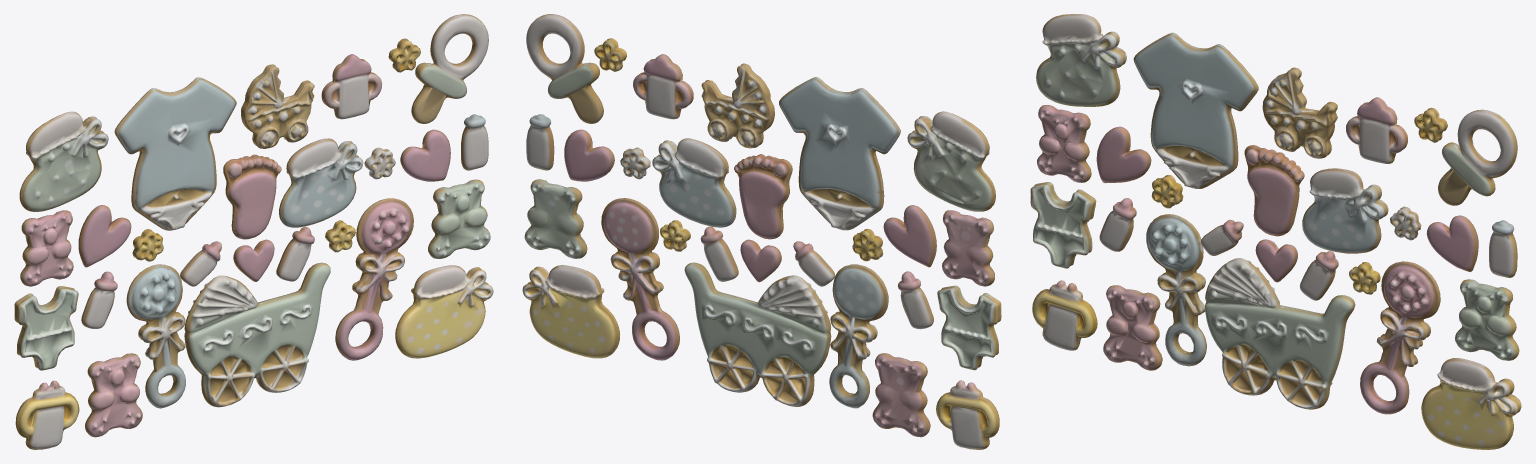
The model's file is cookies-512-separated.glb.
3 renders of one model, left to right at view 1: azimuth 30°, elevation 25°; view 2: azimuth 150°, elevation 25°; view 3: azimuth 330°, elevation 25°, orthographic. The views are drawn at different scales.
Visible parts, largest first — view 1: Cookie_12, Cookie_08, Cookie_23, Cookie_03, Cookie_20, Cookie_09, Cookie_17, Cookie_25, Cookie_15, Cookie_02, Cookie_07, Cookie_13 (+15 smaller); view 2: Cookie_12, Cookie_08, Cookie_23, Cookie_03, Cookie_20, Cookie_09, Cookie_17, Cookie_25, Cookie_15, Cookie_02, Cookie_07, Cookie_13 (+15 smaller); view 3: Cookie_12, Cookie_08, Cookie_23, Cookie_03, Cookie_20, Cookie_09, Cookie_17, Cookie_25, Cookie_15, Cookie_02, Cookie_13, Cookie_07 (+15 smaller).
Boxes of the visible parts, box(x1,y1,x2,y2) form: Cookie_12: box(184, 262, 330, 407); Cookie_08: box(114, 77, 236, 230); Cookie_23: box(395, 265, 493, 358); Cookie_03: box(19, 111, 108, 211); Cookie_20: box(335, 198, 413, 360); Cookie_09: box(126, 264, 185, 408); Cookie_17: box(279, 138, 363, 227); Cookie_25: box(411, 14, 488, 123); Cookie_15: box(241, 64, 314, 148); Cookie_02: box(14, 286, 78, 370); Cookie_07: box(85, 353, 142, 437); Cookie_13: box(223, 154, 281, 239); Cookie_12: box(684, 262, 831, 406); Cookie_08: box(779, 77, 900, 230); Cookie_23: box(522, 265, 620, 358); Cookie_03: box(907, 111, 995, 211); Cookie_20: box(601, 198, 679, 360); Cookie_09: box(829, 264, 888, 408); Cookie_17: box(652, 138, 736, 227); Cookie_25: box(526, 14, 603, 123); Cookie_15: box(701, 63, 774, 148); Cookie_02: box(937, 285, 1001, 370); Cookie_07: box(872, 353, 930, 437); Cookie_13: box(734, 154, 792, 239); Cookie_12: box(1205, 258, 1355, 409); Cookie_08: box(1133, 32, 1258, 188); Cookie_23: box(1421, 358, 1521, 449); Cookie_03: box(1036, 14, 1126, 106); Cookie_20: box(1360, 261, 1440, 414); Cookie_09: box(1146, 214, 1206, 366); Cookie_17: box(1302, 168, 1388, 253); Cookie_25: box(1438, 109, 1517, 205); Cookie_15: box(1262, 67, 1337, 158); Cookie_02: box(1030, 182, 1096, 268); Cookie_13: box(1244, 145, 1304, 236); Cookie_07: box(1103, 285, 1162, 370).
Bounding box in the file's own units: 1.04 × 0.7038 × 0.0415.
Materials: 1 (1 with a texture image).
